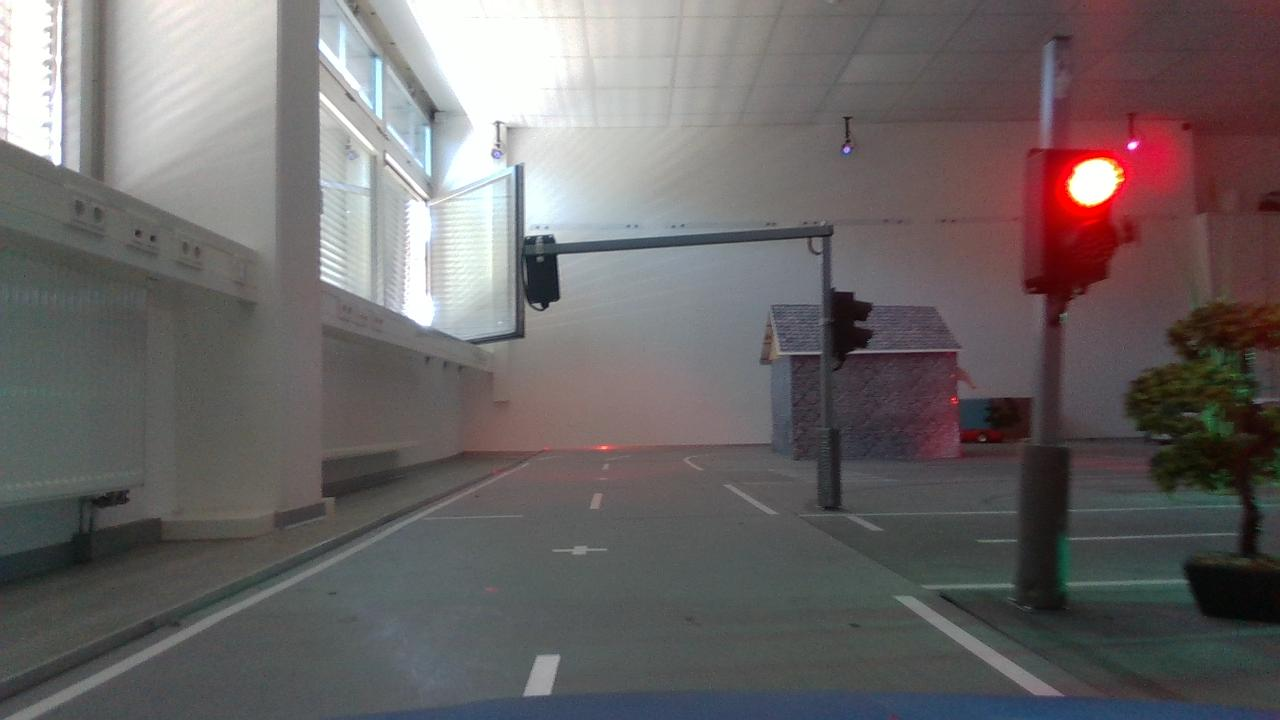traffic_light_red: (1017, 139, 1133, 307)
